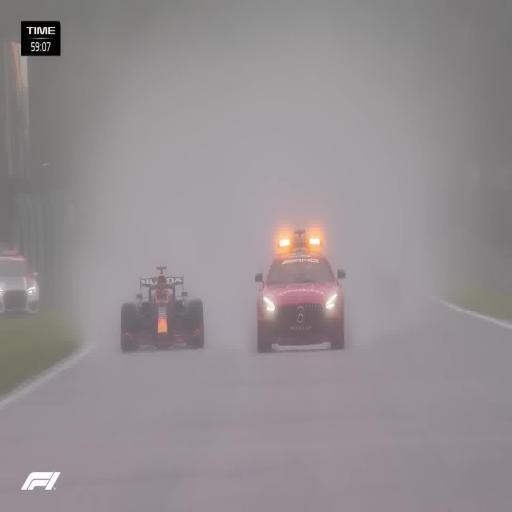f1_car: (121, 266, 204, 351)
